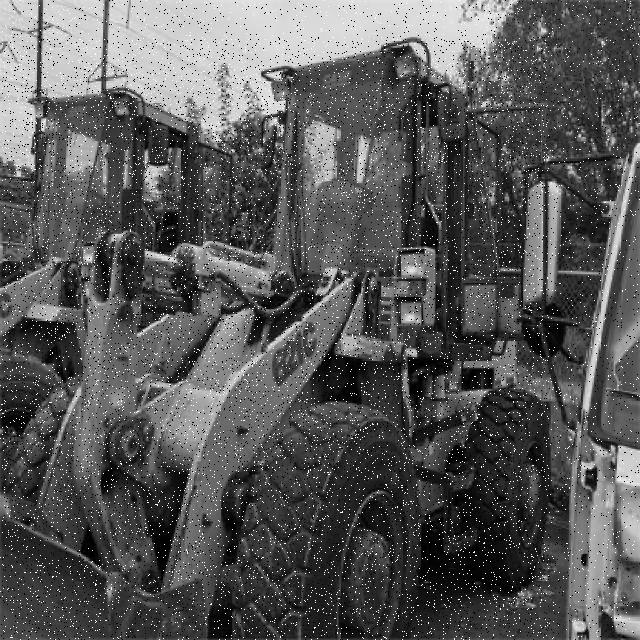Construction Equipment: (2, 39, 549, 640)
